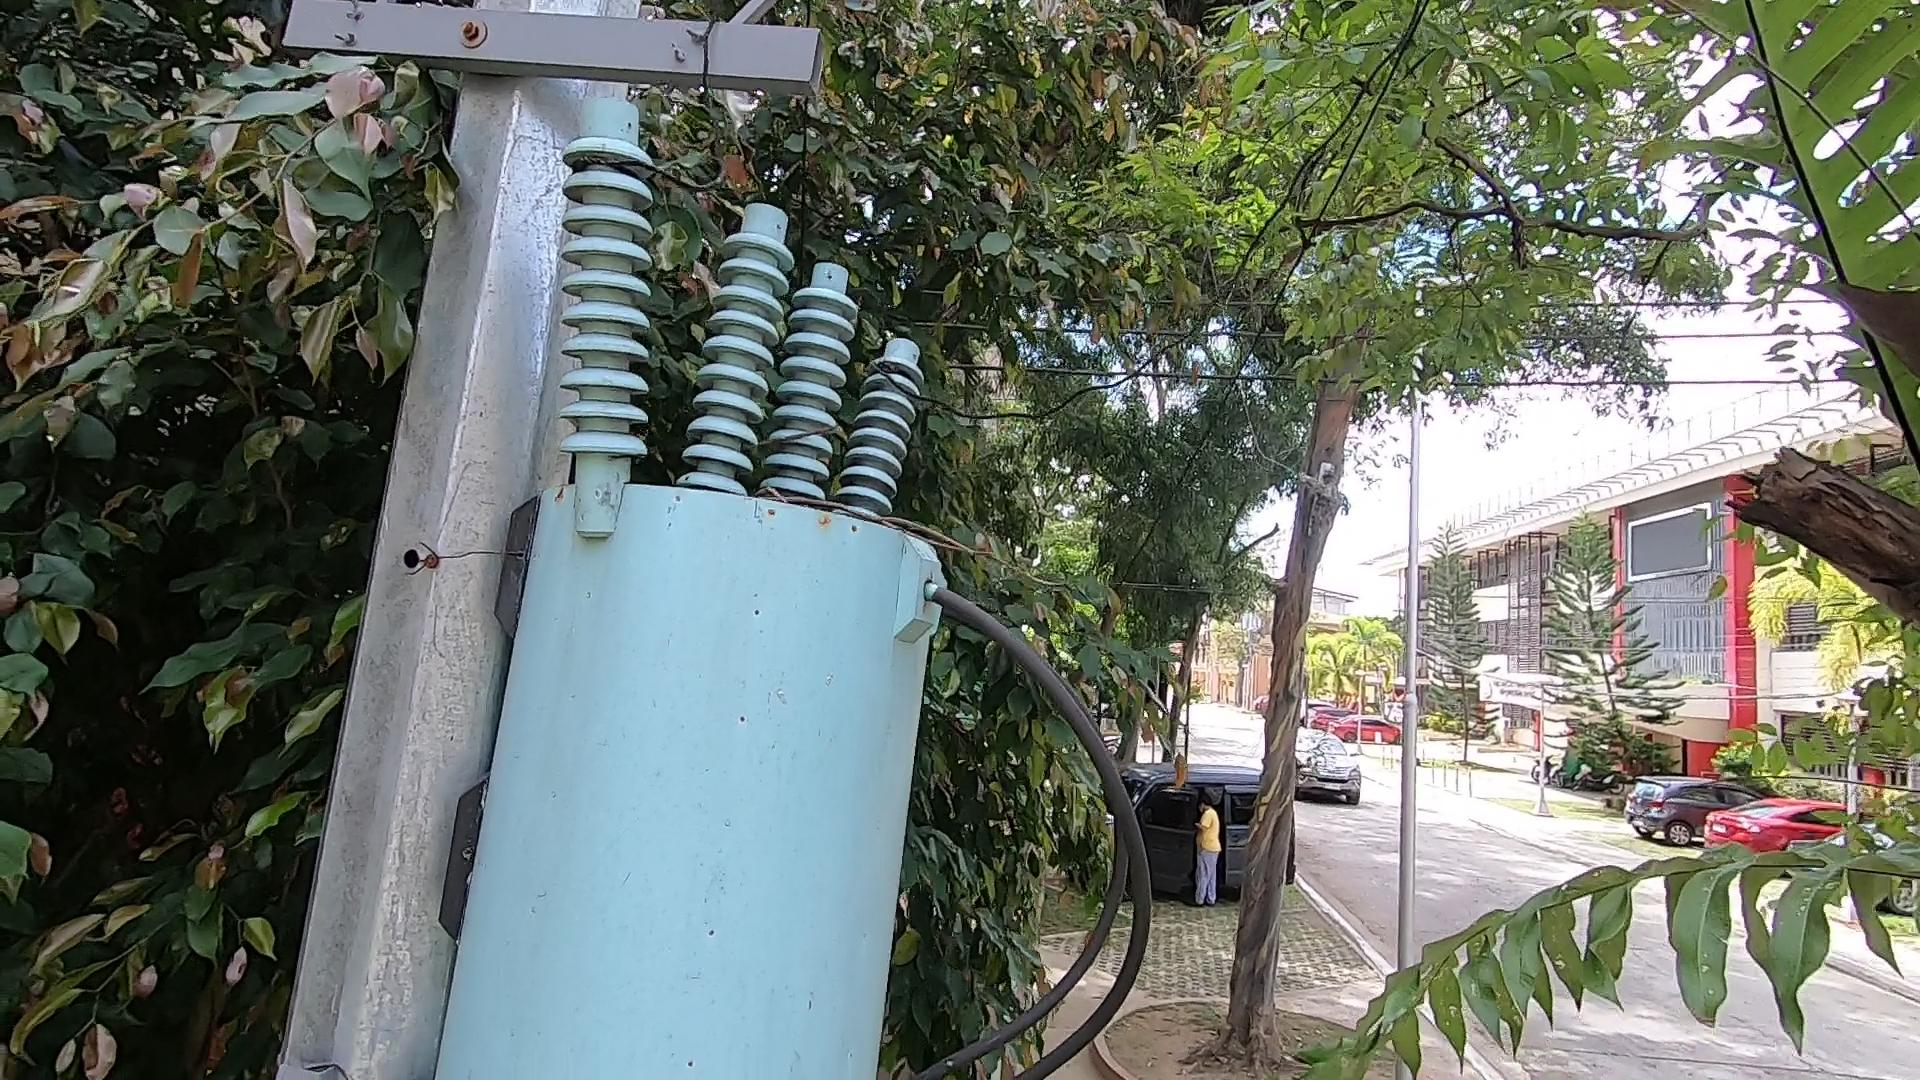tree branch: (694, 454, 1076, 612)
